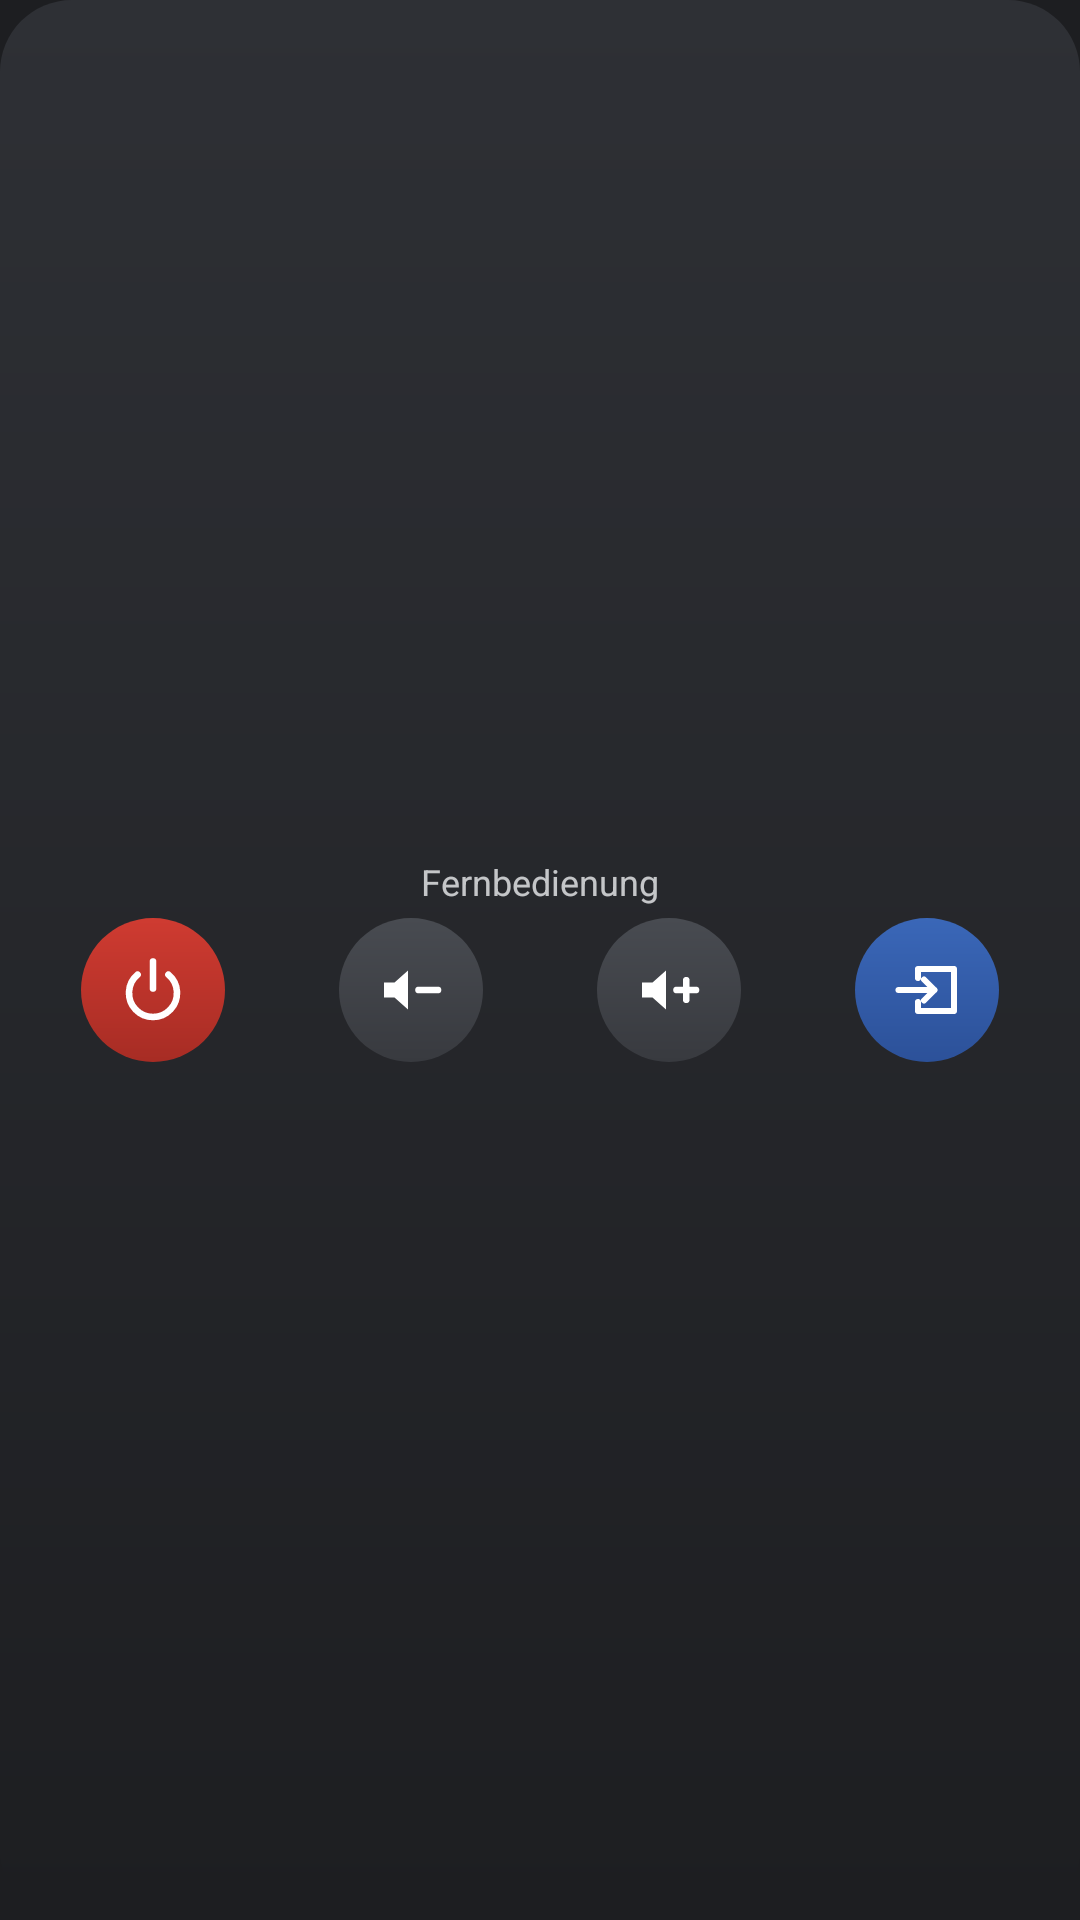

Where icons sit on this 1080w x 1920h app screen, as (x1, y1, x2, y2):
quick input: (891, 954, 963, 1014)
quick power: (125, 958, 181, 1021)
quick vol down: (384, 970, 442, 1009)
quick vol up: (642, 970, 700, 1009)
